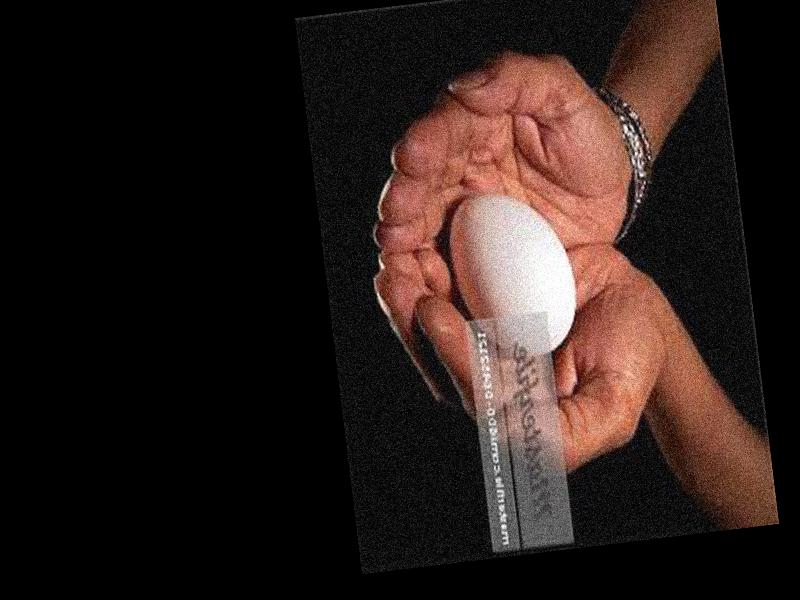Eggs: (442, 183, 580, 358)
